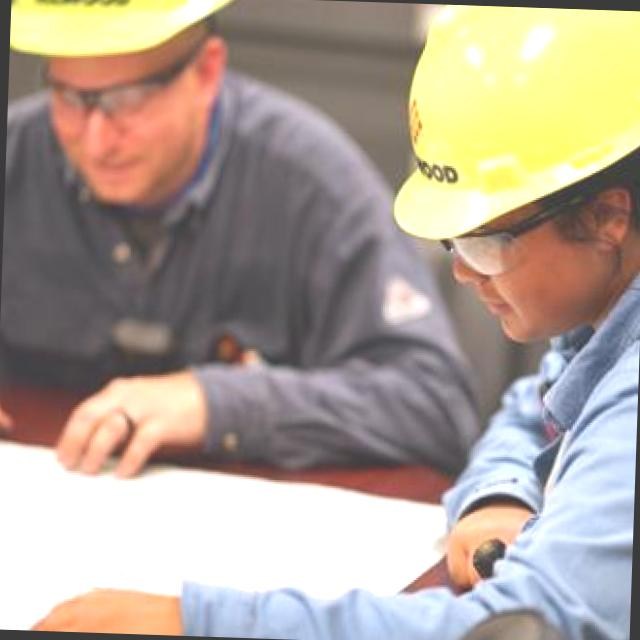goggles: (431, 172, 610, 312), (31, 48, 206, 148)
helmet: (362, 3, 640, 244), (8, 0, 267, 78)
no-vest: (11, 121, 402, 452)
